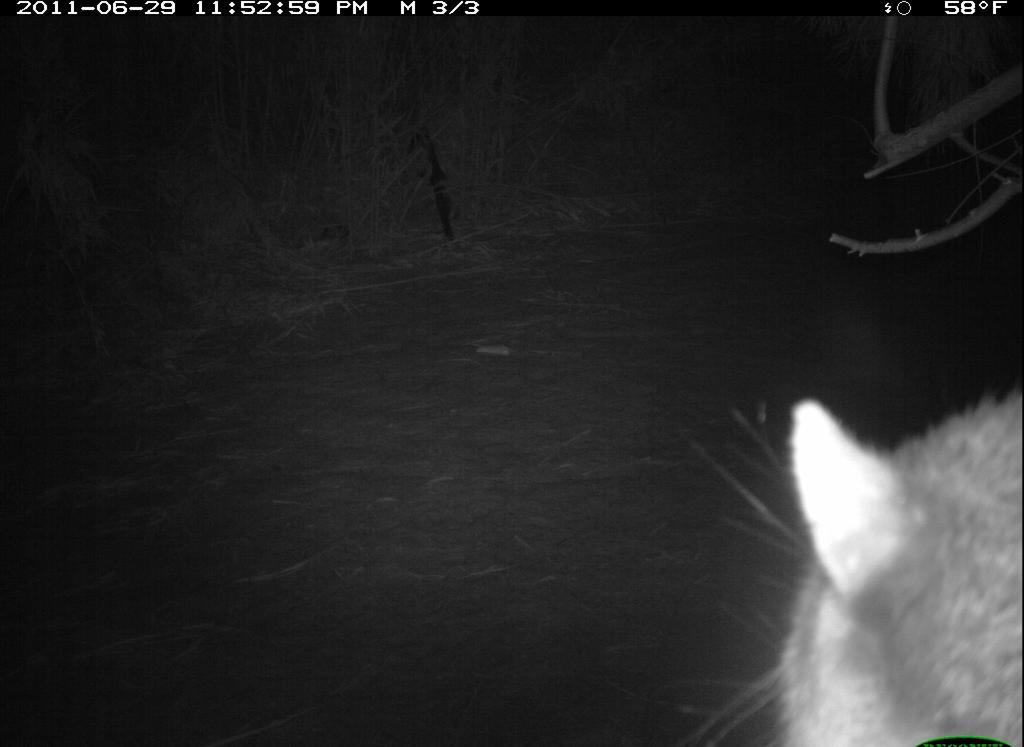raccoon: (684, 349, 1022, 747)
